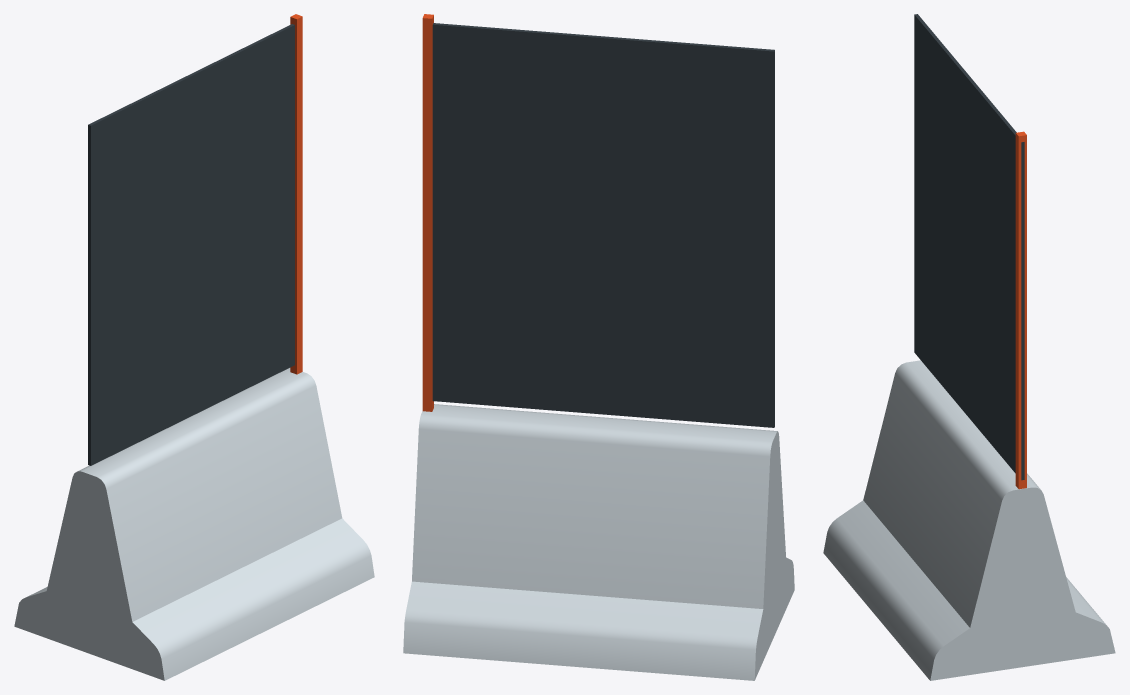
File: Ormigon_04.fbx
The picture shows the model from 3 angles, left to right: view 1: azimuth 30°, elevation 25°; view 2: azimuth 150°, elevation 25°; view 3: azimuth 270°, elevation 25°; orthographic projection. The views are drawn at different scales.
Parts seen in each view (by area): view 1: Ormigon_04; view 2: Ormigon_04; view 3: Ormigon_04.
Part boxes in pixels (x1,y1,x2,y2): Ormigon_04: (14, 14, 374, 680); Ormigon_04: (403, 14, 794, 680); Ormigon_04: (823, 14, 1115, 680).
Bounding box in the file's own units: 374 × 596 × 297.
